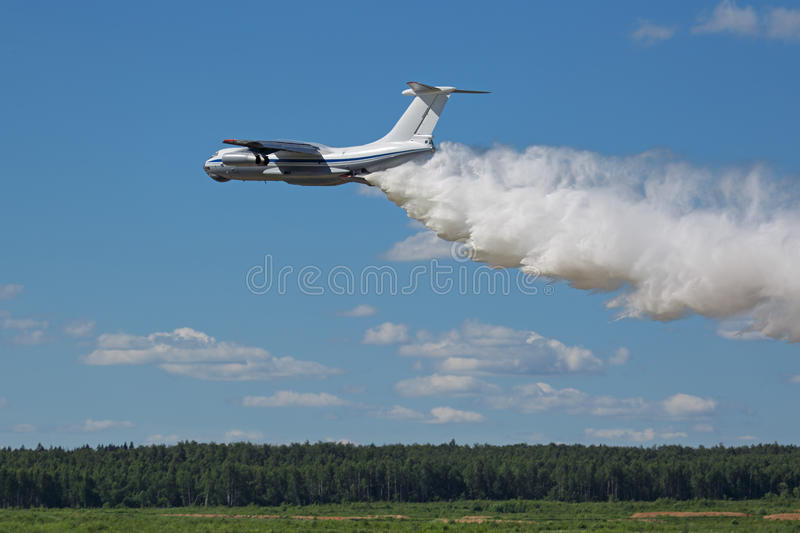Aeronef_de_service: (197, 74, 498, 207)
